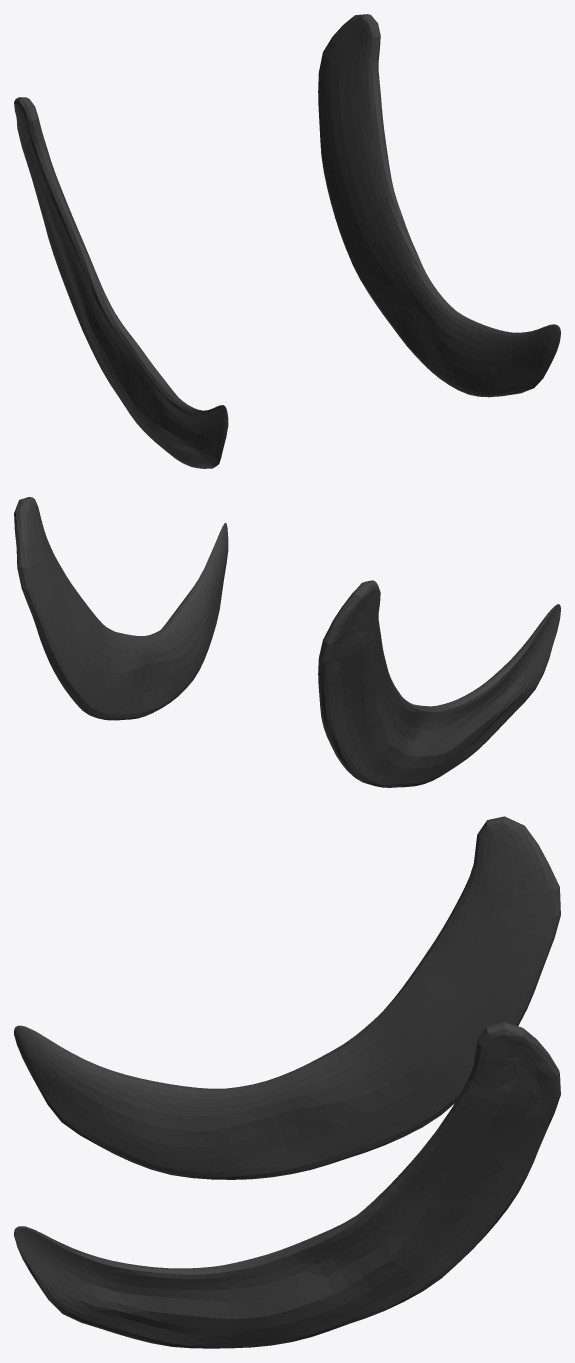
Rendered from Scapula_cartilage_1.glb.
The picture shows the model from 3 angles, top to bottom: view 1: azimuth 30°, elevation 25°; view 2: azimuth 150°, elevation 25°; view 3: azimuth 270°, elevation 25°; orthographic projection. The views are drawn at different scales.
Visible parts, largest first — view 1: Scapula_cartilage_1; view 2: Scapula_cartilage_1; view 3: Scapula_cartilage_1.
Part boxes in pixels (x1=…): Scapula_cartilage_1: x1=14, y1=14, x2=560, y2=468; Scapula_cartilage_1: x1=14, y1=497, x2=560, y2=787; Scapula_cartilage_1: x1=14, y1=816, x2=560, y2=1348.
Bounding box in the file's own units: 0.00219 × 0.00164 × 0.00237.
1 material, 1 textured.
